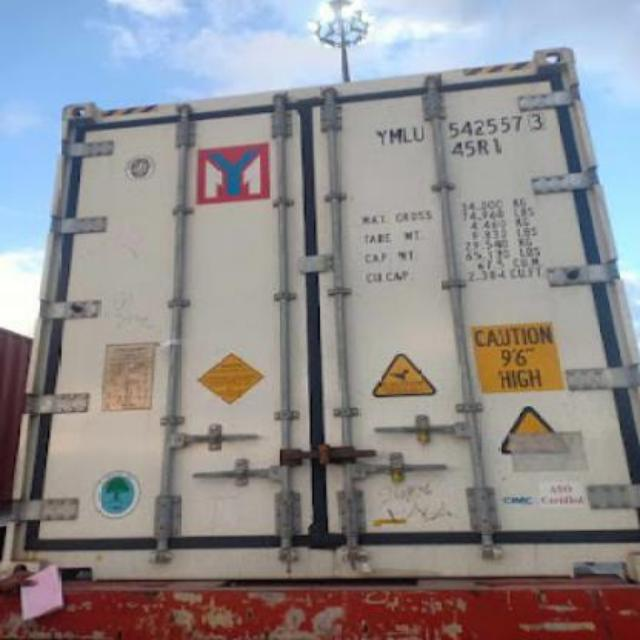2: (474, 115, 486, 138)
3: (530, 108, 546, 130)
4: (458, 117, 474, 141)
5: (442, 118, 460, 142), (496, 112, 512, 138), (484, 112, 498, 138)
7: (510, 111, 526, 132)
L: (400, 115, 412, 148)
M: (388, 124, 400, 148)
U: (412, 119, 426, 145)
Y: (374, 125, 386, 152)
